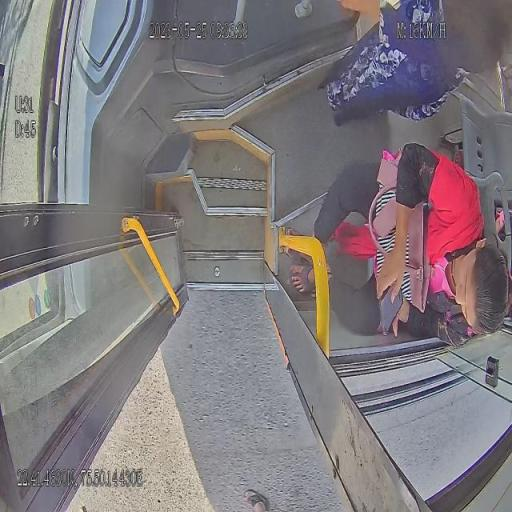persona: (281, 142, 510, 345), (325, 0, 512, 133)
